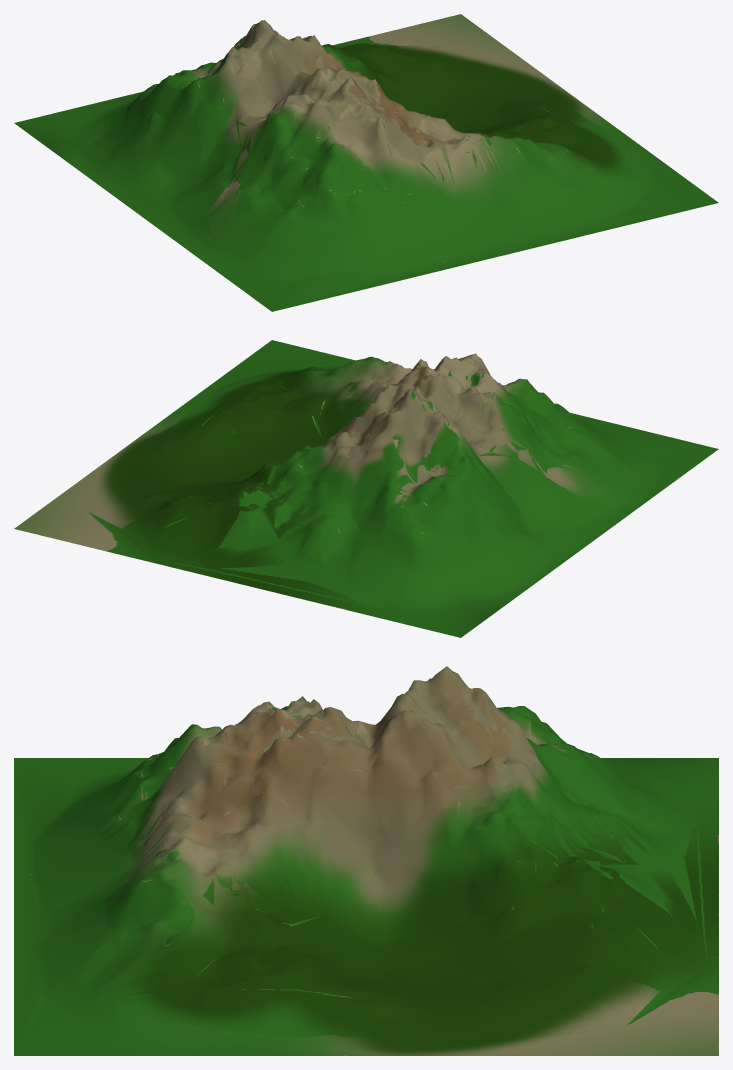
File: big_island.dae
3 renders of one model, top to bottom at view 1: azimuth 30°, elevation 25°; view 2: azimuth 150°, elevation 25°; view 3: azimuth 270°, elevation 25°, orthographic. The views are drawn at different scales.
Visible parts, largest first — view 1: Landscape; view 2: Landscape; view 3: Landscape.
Boxes of the visible parts, x1,y1,x2,y2 form: Landscape: (14, 14, 718, 311); Landscape: (14, 340, 718, 637); Landscape: (14, 666, 718, 1055).
Bounding box in the file's own units: 43.04 × 43.04 × 12.83.
1 material, 1 textured.
